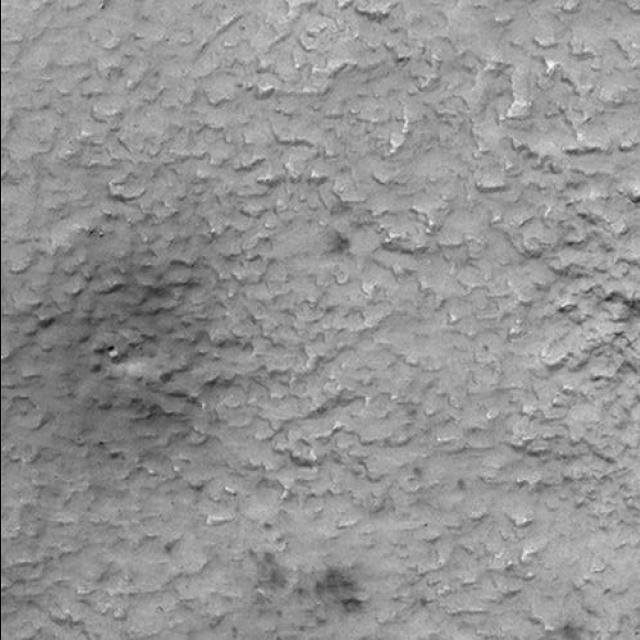crater: (95, 338, 128, 374)
